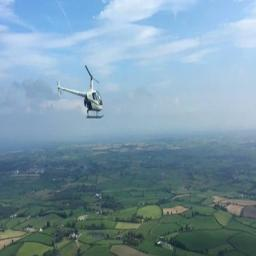helicopter: (58, 67, 107, 120)
